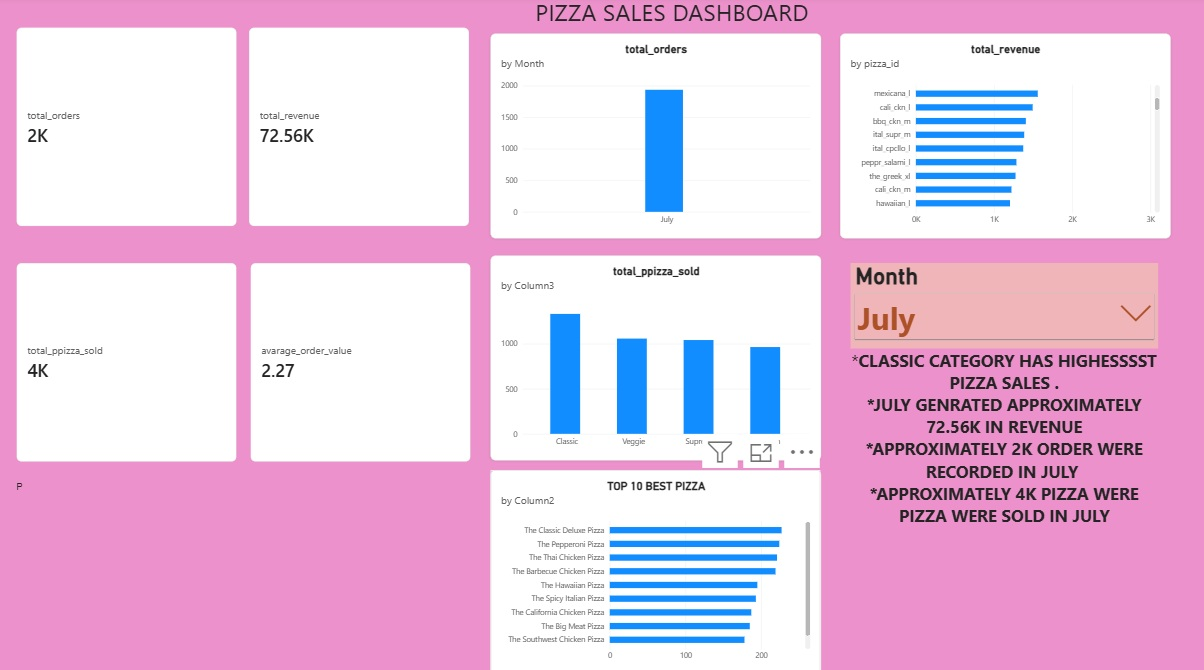

The page's visual inventory and layout, read from the dashboard file:
{"tool":"powerbi","page":{"name":"Page 1","canvas":[1920,1080],"ordinal":0},"visuals":[{"type":"cardVisual","fields":{"Data":["order_details.total_orders"]},"box":[26.2,50.1,350.7,316],"z":0},{"type":"cardVisual","fields":{"Data":["order_details.total_ppizza_sold"]},"box":[26.2,424.7,350,316],"z":1000},{"type":"cardVisual","fields":{"Data":["order_details.total_revenue"]},"box":[396.1,50.1,350,316],"z":2000},{"type":"cardVisual","fields":{"Data":["order_details.avarage_order_value"]},"box":[398.4,424.7,350,316],"z":3000},{"type":"textbox","box":[26,771,351,309],"z":4000},{"type":"textbox","box":[472,771,351,309],"z":5000},{"type":"textbox","box":[833,38,351,309],"z":6000},{"type":"textbox","box":[801.7,0,534.4,59.6],"z":7000},{"type":"clusteredColumnChart","fields":{"Y":["order_details.total_orders"],"Category":["orders.date.Variation.Date Hierarchy.Month"]},"box":[780.2,59.6,526,326],"z":8000},{"type":"clusteredBarChart","fields":{"Category":["pizzas.pizza_id"],"Y":["order_details.total_revenue"]},"box":[1336.1,59.6,526,326],"z":9000},{"type":"clusteredColumnChart","fields":{"Category":["pizza_types.Column3"],"Y":["order_details.total_ppizza_sold"]},"box":[780.2,412.8,526,326],"z":10000},{"type":"clusteredBarChart","fields":{"Category":["pizza_types.Column2"],"Y":["order_details.total_ppizza_sold"]},"box":[780.2,753.9,526,326],"z":11000},{"type":"slicer","fields":{"Values":["orders.date.Variation.Date Hierarchy.Month"]},"box":[1352.8,424.7,489.1,136],"z":12001},{"type":"textbox","box":[1352.8,560.7,489.1,300.6],"z":12002}]}

Visuals, with their boxes in screenshot pixels (x1, y1, x2, y2), scaled from the page's 1920x1080 canvas onto the 1204x670 screenshot:
cardVisual - order_details.total_orders: bbox=(16, 31, 236, 227)
cardVisual - order_details.total_ppizza_sold: bbox=(16, 263, 236, 460)
cardVisual - order_details.total_revenue: bbox=(248, 31, 468, 227)
cardVisual - order_details.avarage_order_value: bbox=(250, 263, 469, 460)
textbox: bbox=(16, 478, 236, 669)
textbox: bbox=(296, 478, 516, 669)
textbox: bbox=(522, 24, 742, 215)
textbox: bbox=(503, 0, 838, 37)
clusteredColumnChart - order_details.total_orders x orders.date.Variation.Date Hierarchy.Month: bbox=(489, 37, 819, 239)
clusteredBarChart - pizzas.pizza_id x order_details.total_revenue: bbox=(838, 37, 1168, 239)
clusteredColumnChart - pizza_types.Column3 x order_details.total_ppizza_sold: bbox=(489, 256, 819, 458)
clusteredBarChart - pizza_types.Column2 x order_details.total_ppizza_sold: bbox=(489, 468, 819, 669)
slicer - orders.date.Variation.Date Hierarchy.Month: bbox=(848, 263, 1155, 348)
textbox: bbox=(848, 348, 1155, 534)
